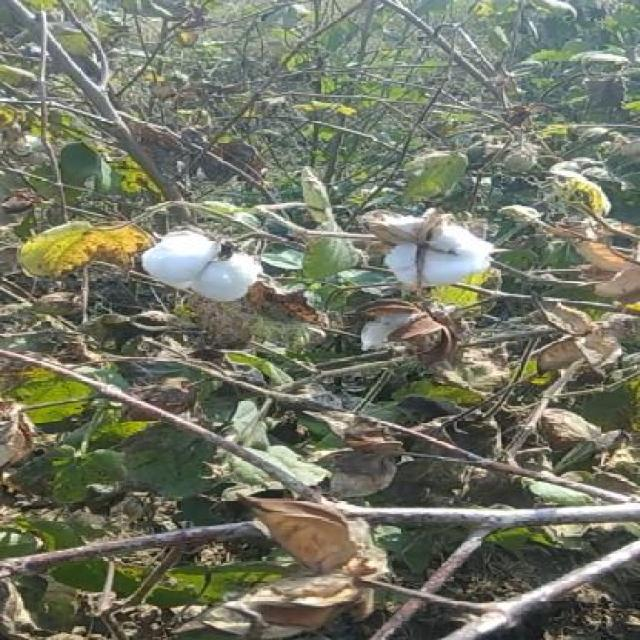cotton_ready: (355, 198, 497, 300), (133, 226, 270, 306)
